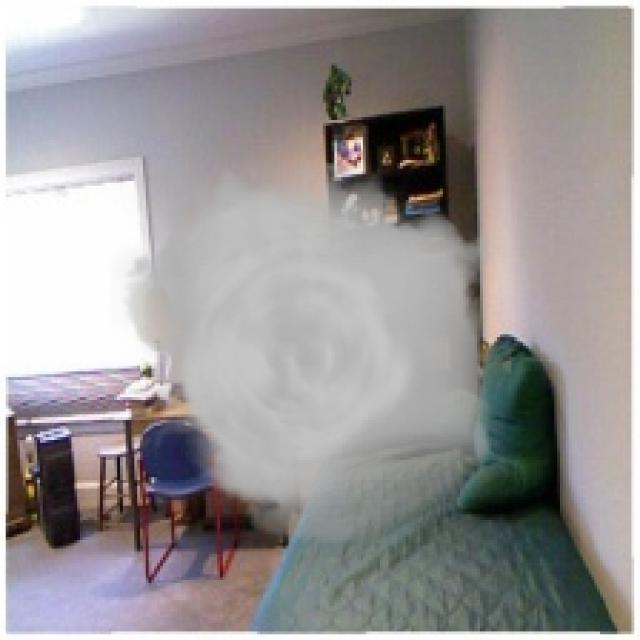smoke: (111, 163, 512, 543)
